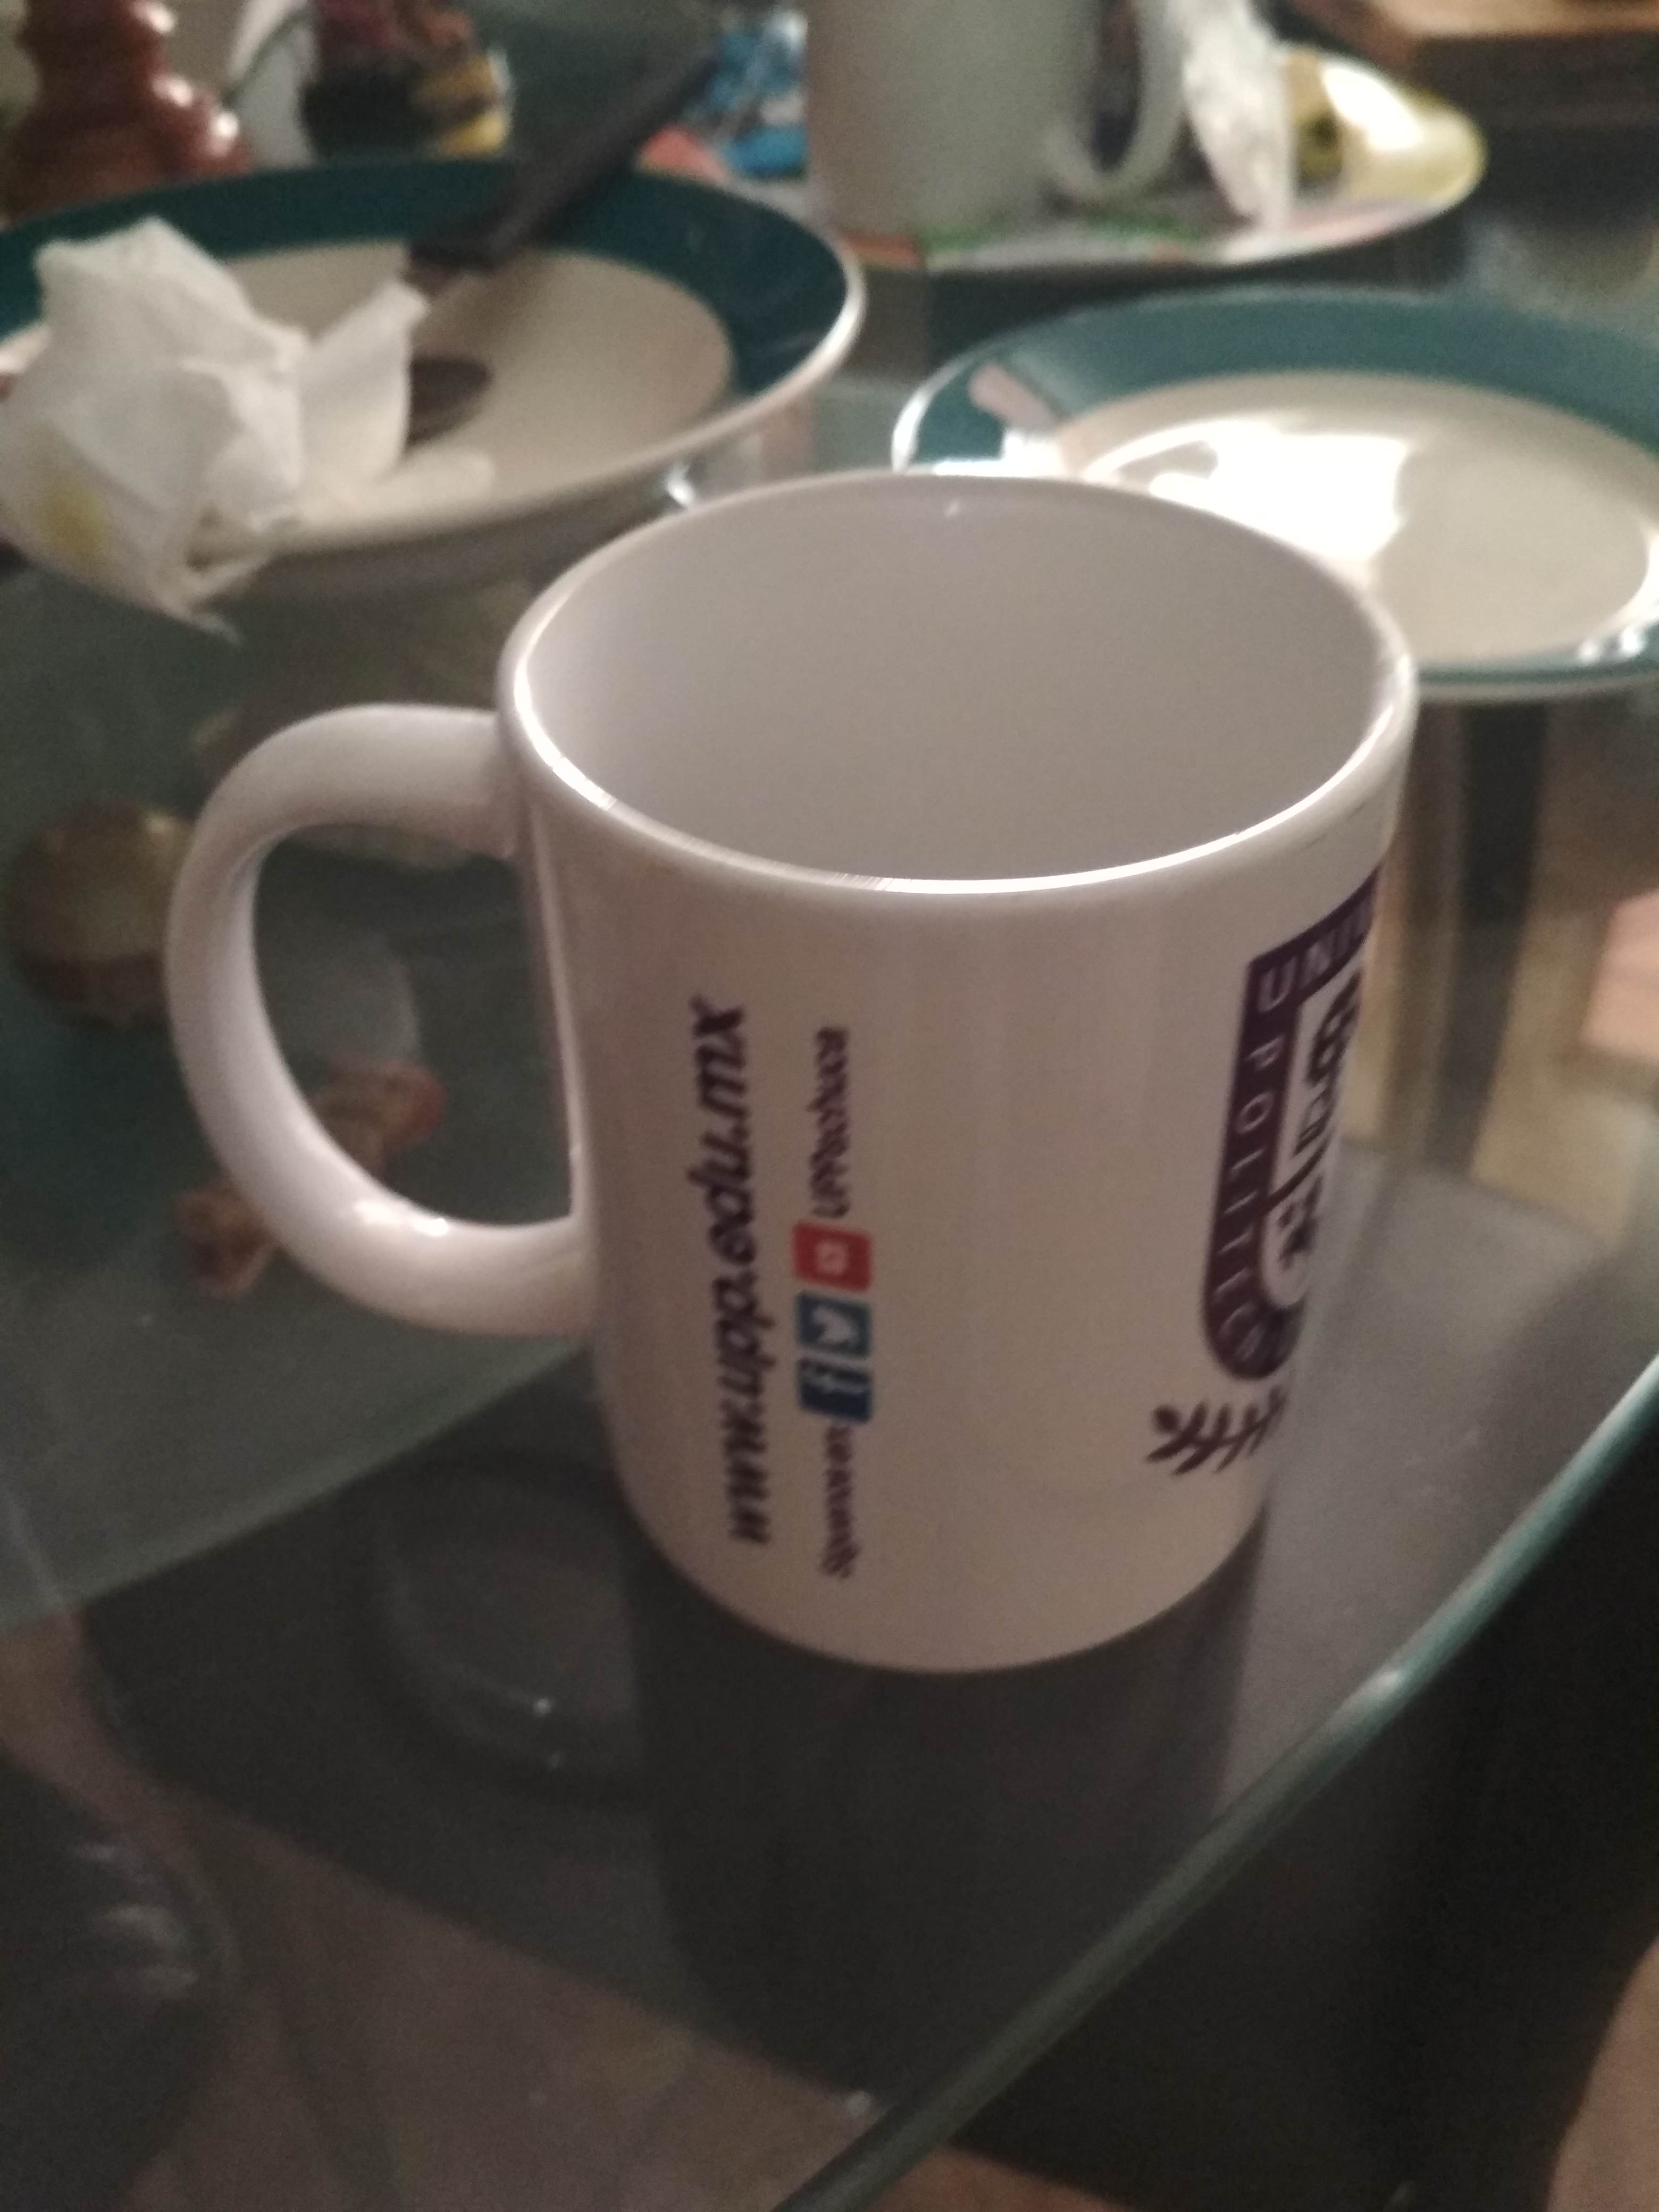cup: (134, 442, 1459, 1705)
